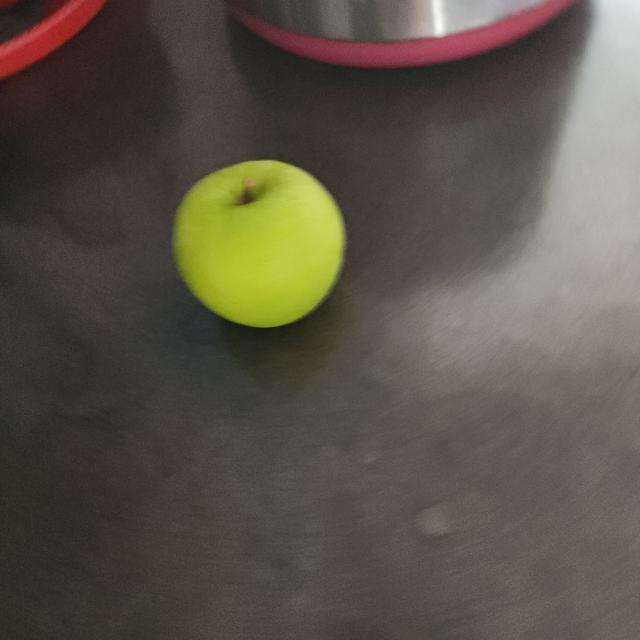apple: (165, 146, 353, 340)
